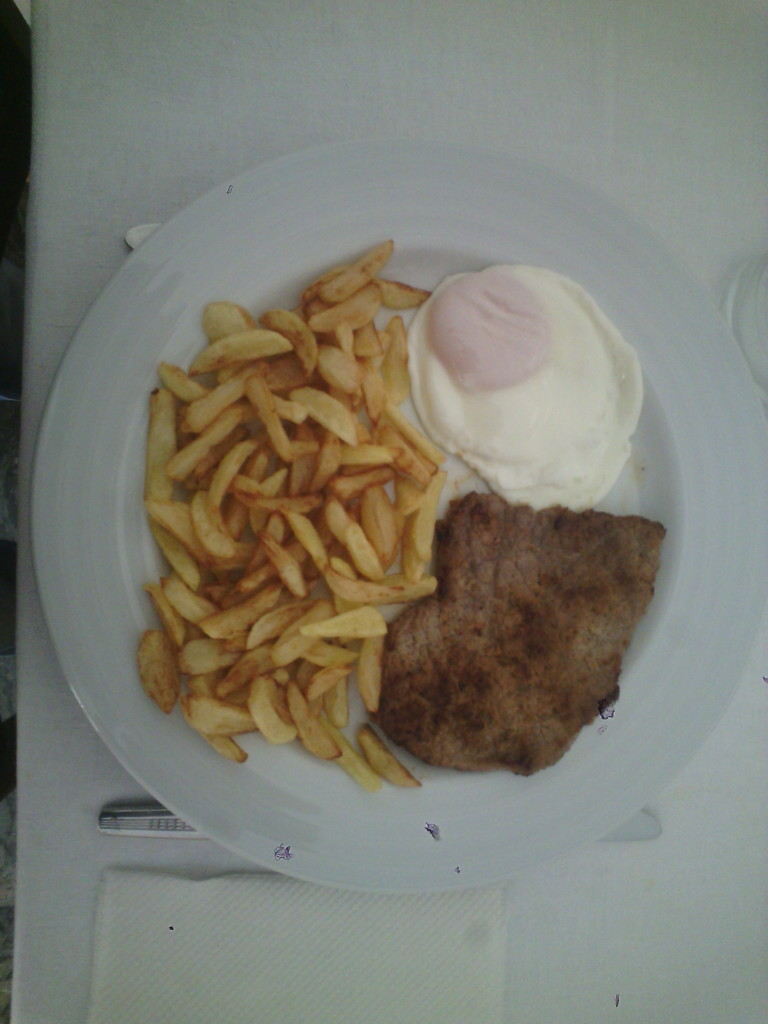81-100: (35, 134, 768, 893)
